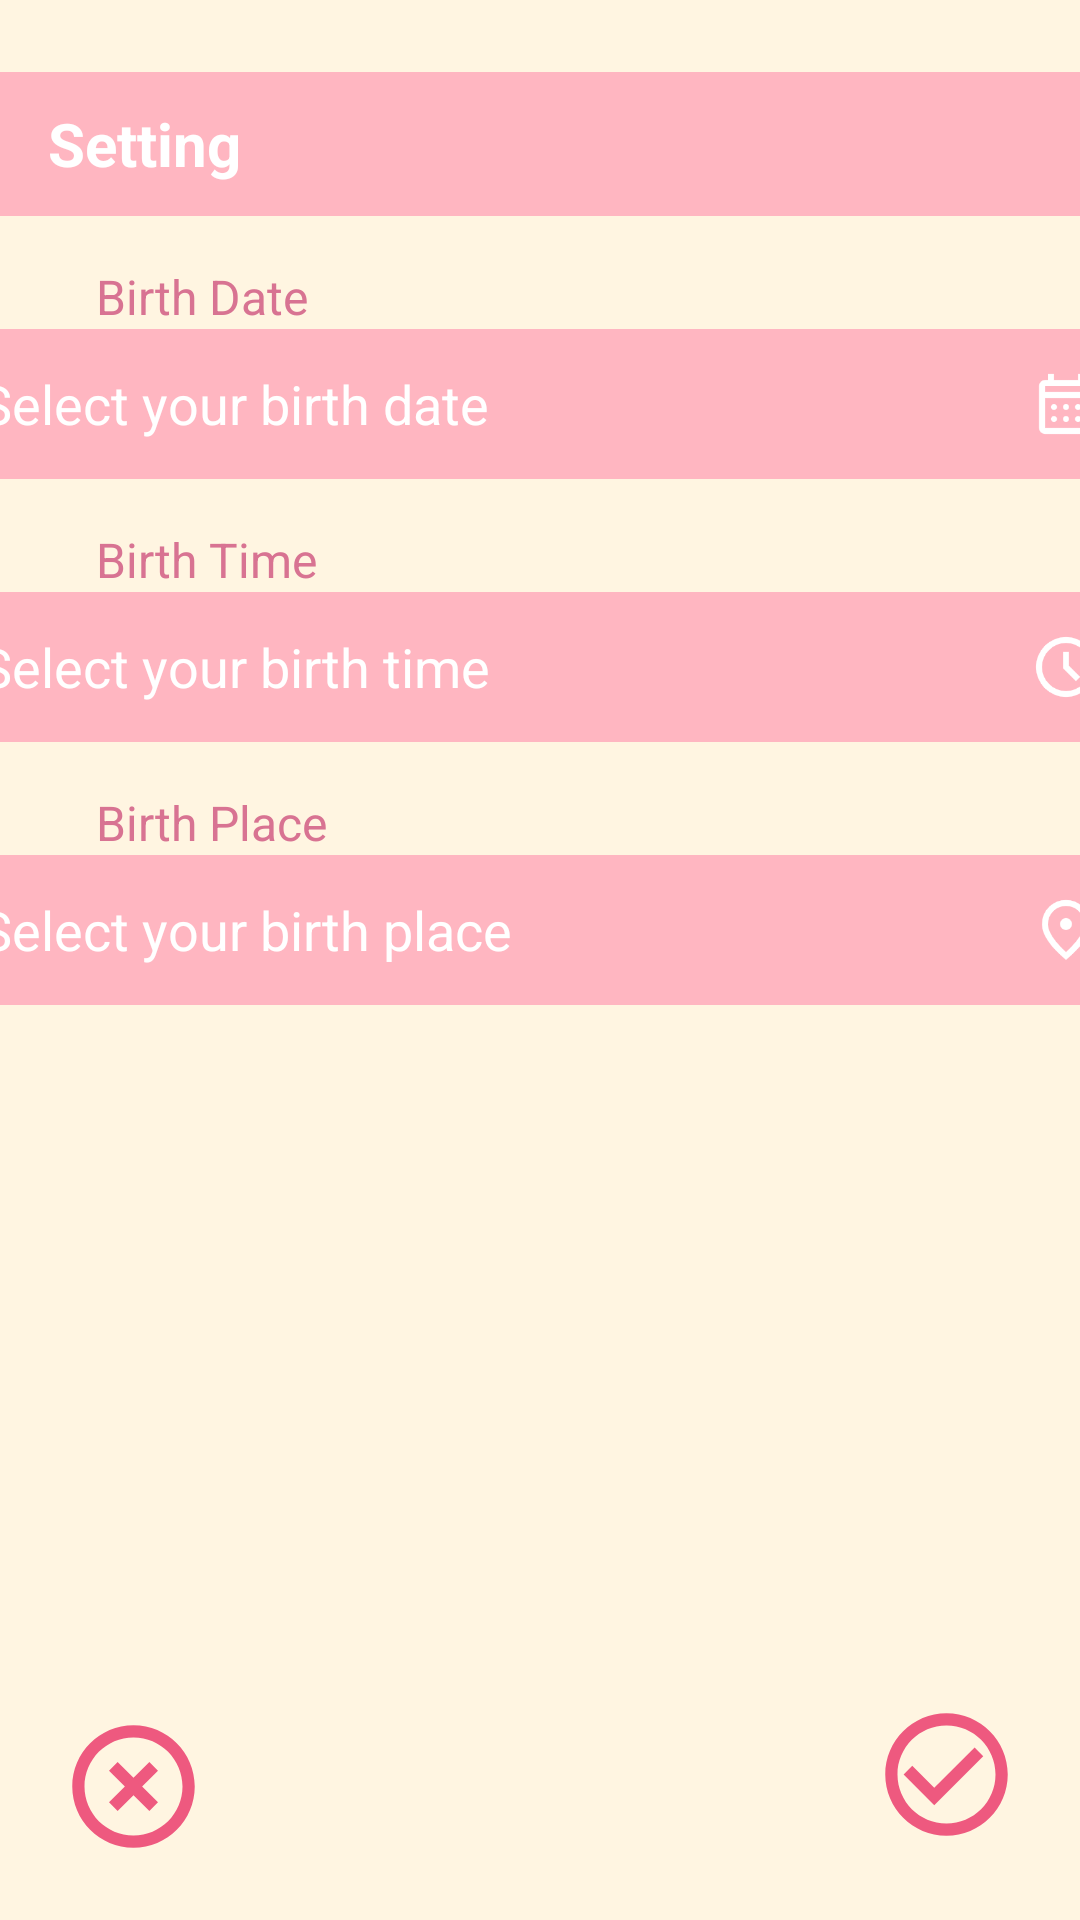

Locate icon controls on the screen. Image size 1080x1920, boxes as (x1, y1, x2, y2).
Save: (885, 1713, 1008, 1836)
